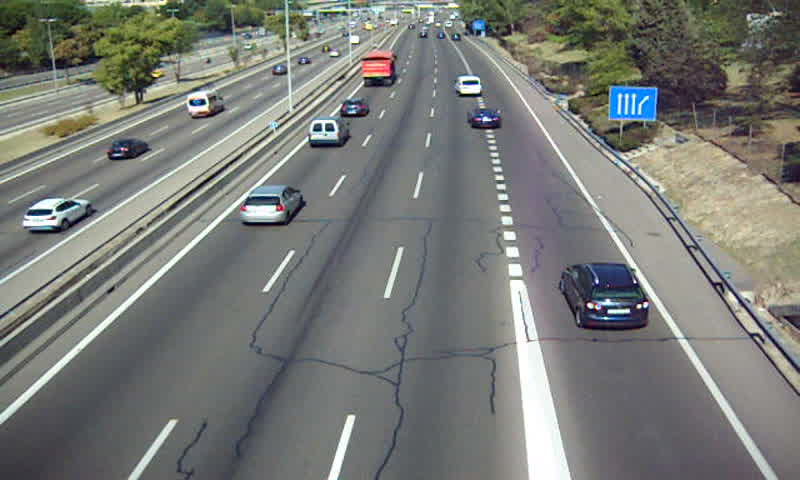car: (561, 262, 650, 328), (241, 185, 302, 223), (469, 108, 504, 129), (338, 98, 368, 117)
truck: (360, 49, 398, 82)
van: (308, 116, 349, 145), (454, 76, 484, 97)
